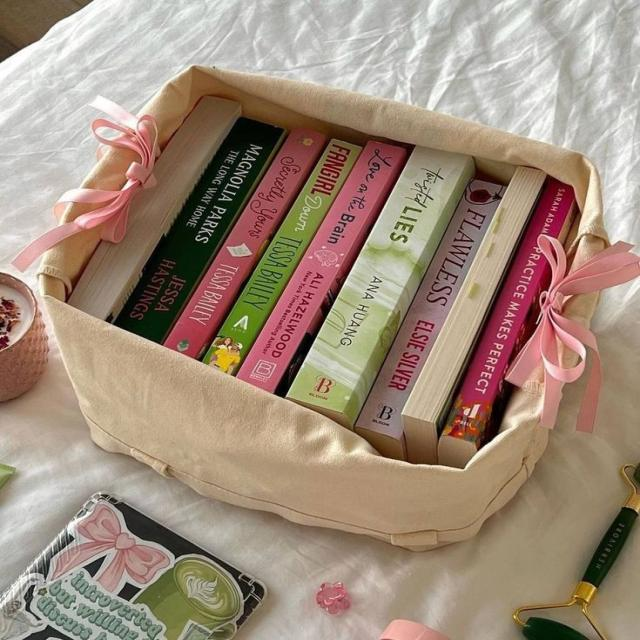book: (288, 148, 474, 426), (237, 141, 406, 392), (356, 179, 502, 440), (439, 180, 576, 458), (115, 120, 284, 343), (203, 139, 361, 375), (71, 98, 239, 318), (164, 130, 326, 358), (404, 169, 544, 424)
